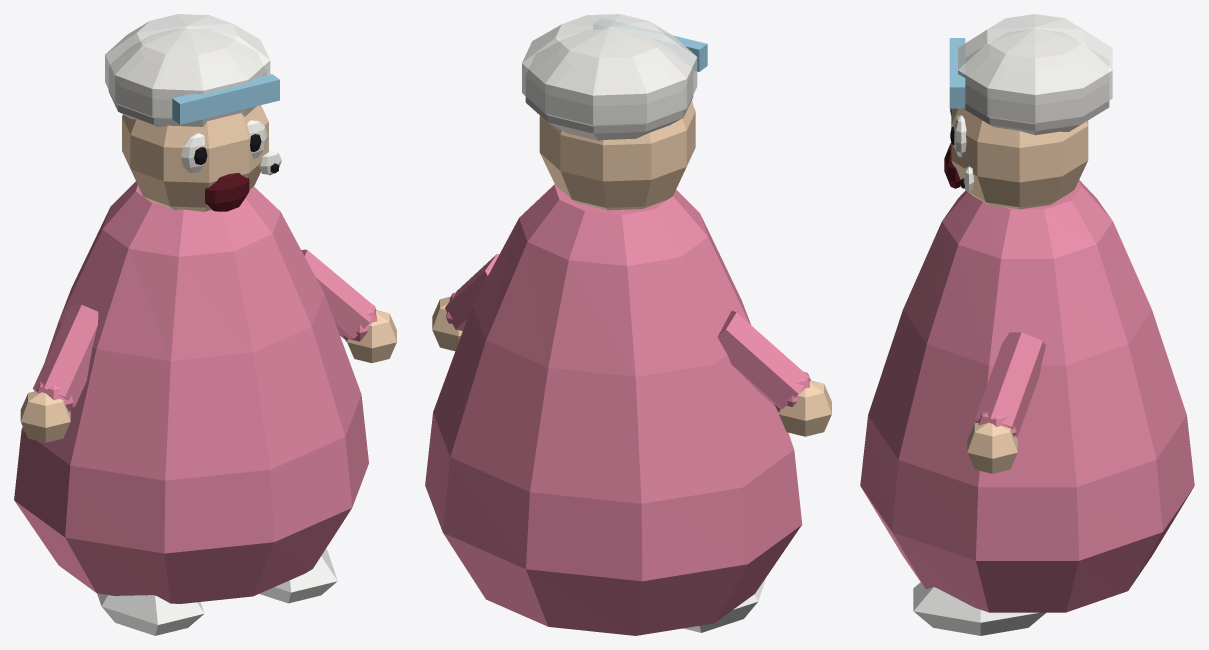
Rendered from npc_operaria.glb.
3 renders of one model, left to right at view 1: azimuth 30°, elevation 25°; view 2: azimuth 150°, elevation 25°; view 3: azimuth 270°, elevation 25°, orthographic. The views are drawn at different scales.
Parts seen in each view (by area): view 1: body_factory_coat, cap_hairnet, head_skin_crema, arms_factory_coat, legs_clogs, arms_skin_crema, cap_goggles, head_curls_grey, face_white, face_mouth; view 2: body_factory_coat, cap_hairnet, head_skin_crema, arms_factory_coat, head_curls_grey, arms_skin_crema, legs_clogs, cap_goggles; view 3: body_factory_coat, cap_hairnet, head_skin_crema, arms_factory_coat, legs_clogs, head_curls_grey, arms_skin_crema, cap_goggles, face_white.
Part boxes in pixels (x1,y1,x2,y2): body_factory_coat: (14,181,368,603); cap_hairnet: (105,14,270,119); head_skin_crema: (122,105,268,211); arms_factory_coat: (33,249,377,412); legs_clogs: (97,549,337,635); arms_skin_crema: (20,310,396,442); cap_goggles: (172,74,279,124); head_curls_grey: (108,29,264,126); face_white: (181,120,281,175); face_mouth: (205,173,249,211); body_factory_coat: (425,184,802,635); cap_hairnet: (522,14,697,126); head_skin_crema: (539,102,695,210); arms_factory_coat: (445,254,810,411); head_curls_grey: (525,30,693,140); arms_skin_crema: (432,296,831,436); legs_clogs: (683,577,766,632); cap_goggles: (595,21,707,71); body_factory_coat: (860,180,1194,612); cap_hairnet: (958,14,1112,124); head_skin_crema: (951,108,1088,209); arms_factory_coat: (975,332,1045,436); legs_clogs: (913,582,1045,635); head_curls_grey: (963,29,1109,135); arms_skin_crema: (967,422,1017,473); cap_goggles: (949,38,965,108); face_white: (953,115,974,191).
Size of the model in its own units: 1.13 by 1.61 by 0.86.
